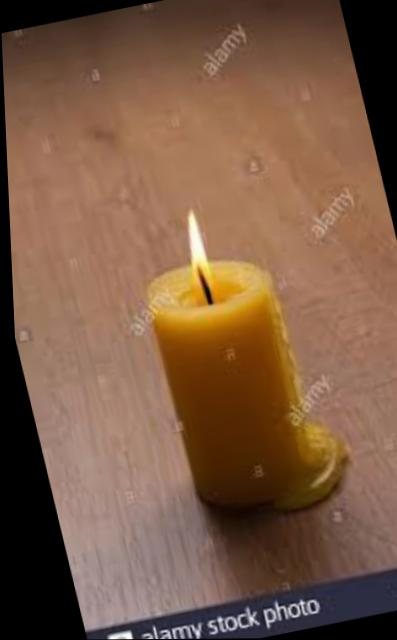fire: (167, 203, 209, 279)
